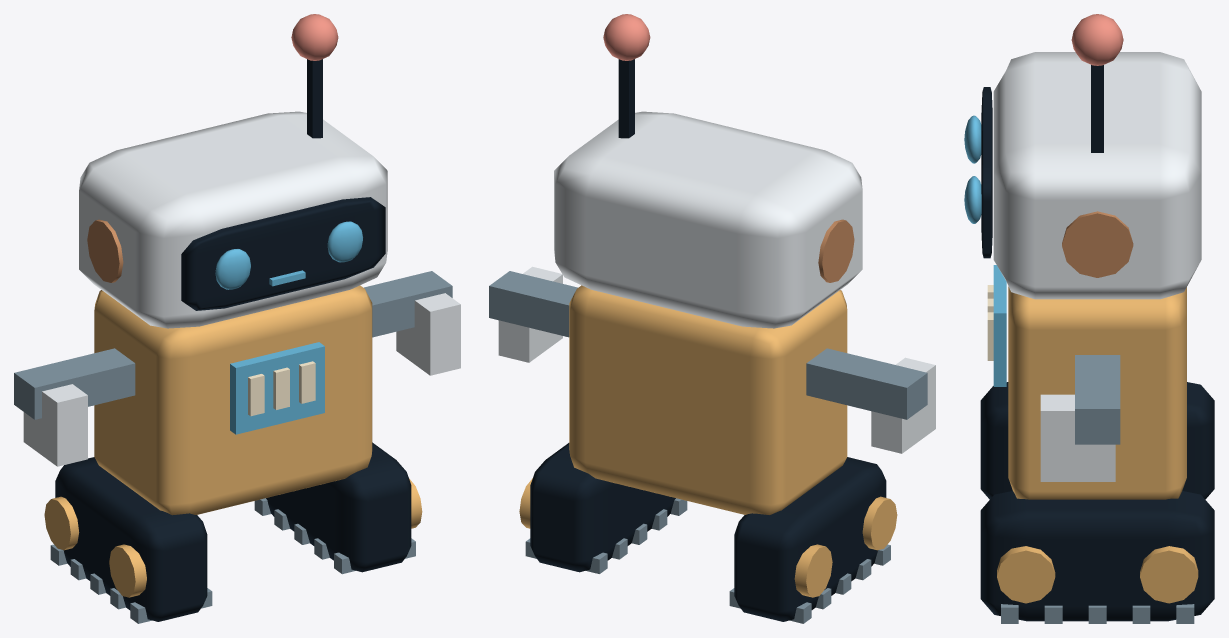
Rendered from bolt.glb.
3 views of the same model, side by side, from view 1: azimuth 30°, elevation 25°; view 2: azimuth 150°, elevation 25°; view 3: azimuth 270°, elevation 25° (orthographic). The views are drawn at different scales.
Parts seen in each view (by area): view 1: body, head, tread (×2), face-screen, claw (×2), arm (×2), power-cell, wheel-hub (×2), lit-eye (×2), charge-light (×3), head-hinge, antenna-tip (+1 smaller); view 2: head, body, tread (×2), arm (×2), claw (×2), wheel-hub (×2), head-hinge, antenna-tip, antenna; view 3: head, tread (×2), body, wheel-hub (×2), claw, arm, head-hinge, antenna-tip, face-screen, power-cell, tread-grip (×4), lit-eye (×2) (+1 smaller).
Part boxes in pixels (box(x1,y1,x2,y2)): body: box(94, 285, 372, 515); head: box(79, 111, 387, 328); tread (×2): box(55, 442, 411, 621); face-screen: box(181, 197, 385, 310); claw (×2): box(23, 293, 460, 466); arm (×2): box(14, 271, 452, 419); power-cell: box(230, 342, 324, 434); wheel-hub (×2): box(44, 496, 146, 597); lit-eye (×2): box(215, 221, 363, 289); charge-light (×3): box(248, 361, 315, 416); head-hinge: box(87, 219, 123, 282); antenna-tip: box(291, 14, 338, 60); head: box(554, 111, 862, 328); body: box(569, 285, 847, 514); tread (×2): box(530, 443, 886, 621); arm (×2): box(489, 271, 927, 419); claw (×2): box(498, 266, 935, 453); wheel-hub (×2): box(794, 496, 897, 597); head-hinge: box(818, 219, 854, 282); antenna-tip: box(603, 14, 650, 60); antenna: box(618, 59, 634, 138); head: box(993, 52, 1201, 299); tread (×2): box(980, 382, 1214, 621); body: box(1008, 286, 1186, 499); wheel-hub (×2): box(997, 546, 1198, 603); claw: box(1040, 394, 1115, 481); arm: box(1075, 355, 1120, 444); head-hinge: box(1062, 211, 1133, 277); antenna-tip: box(1071, 14, 1123, 65); face-screen: box(981, 87, 992, 258); power-cell: box(993, 265, 1006, 386); tread-grip (×4): box(1044, 604, 1194, 623); lit-eye (×2): box(964, 115, 981, 223).
Size of the model in its own units: 1.64 by 1.98 by 0.77.
